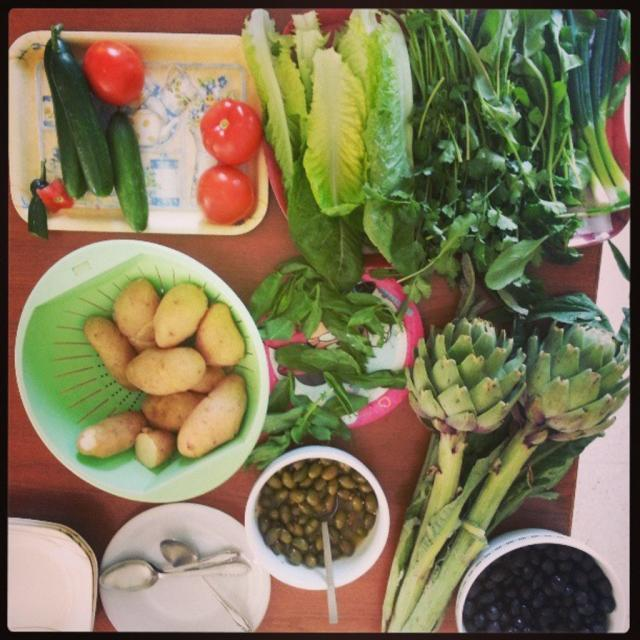Zucchini: (46, 24, 108, 195), (103, 113, 146, 241)
